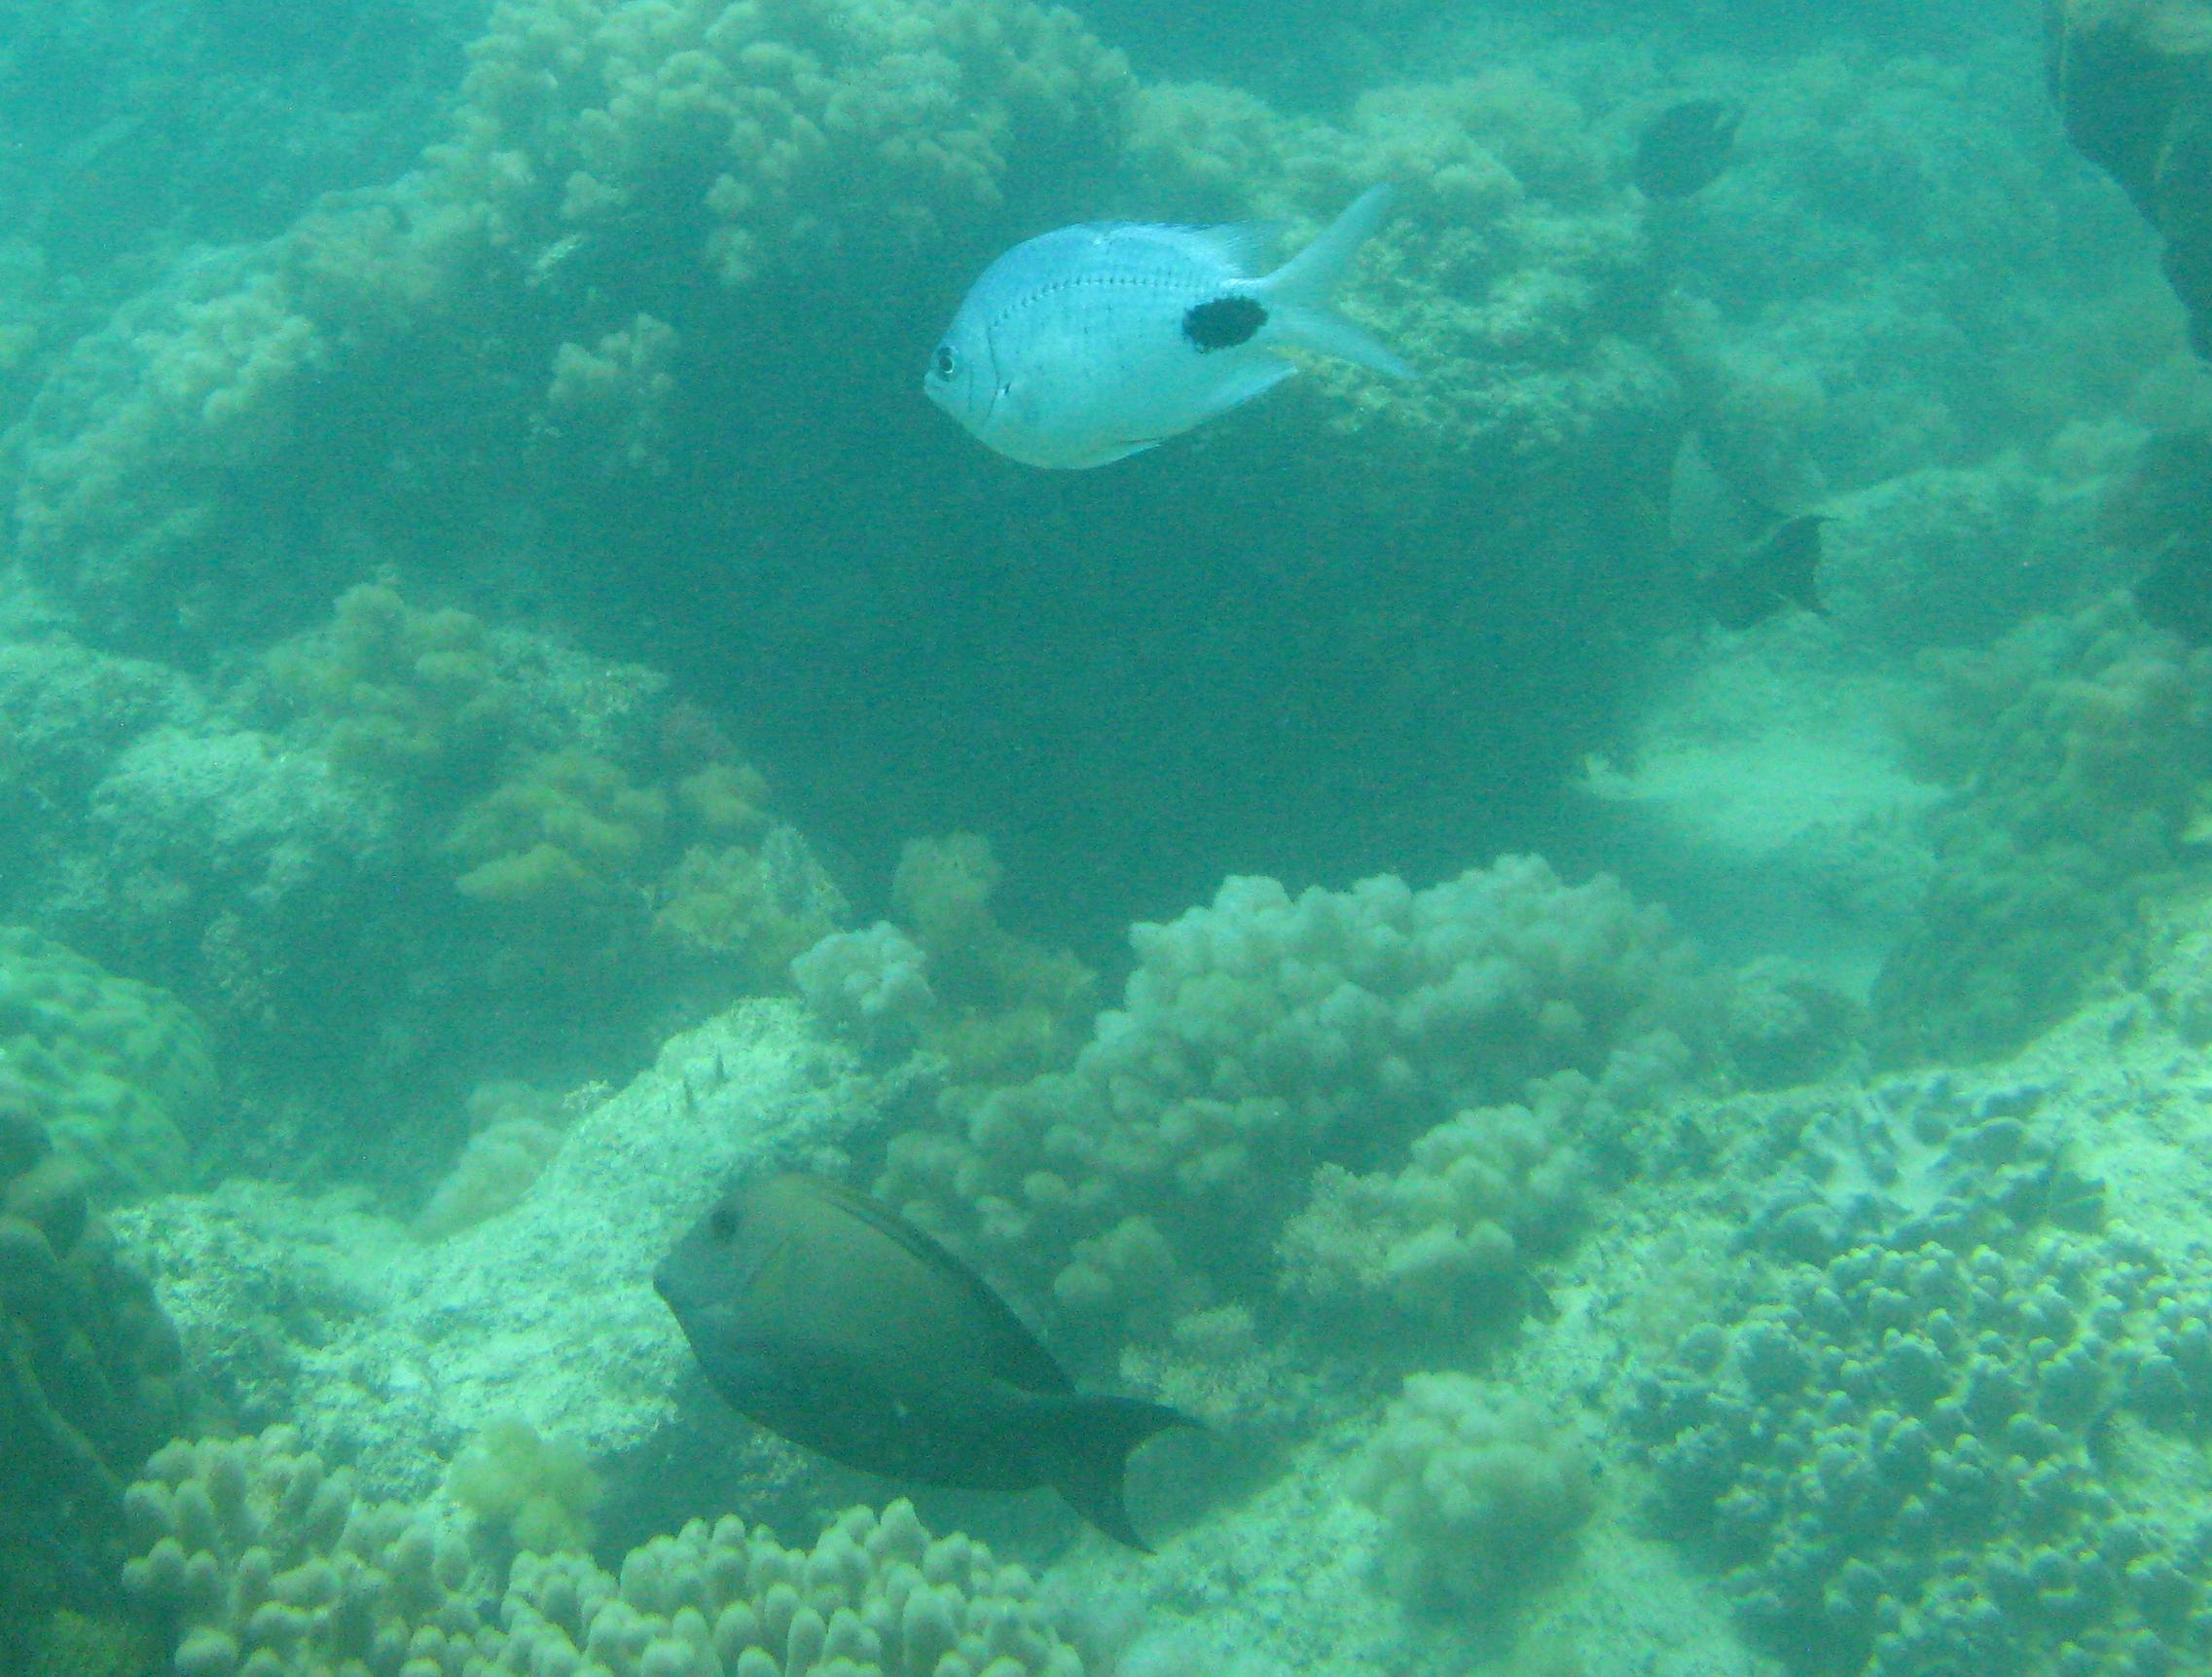Fish: (815, 150, 1520, 555)
